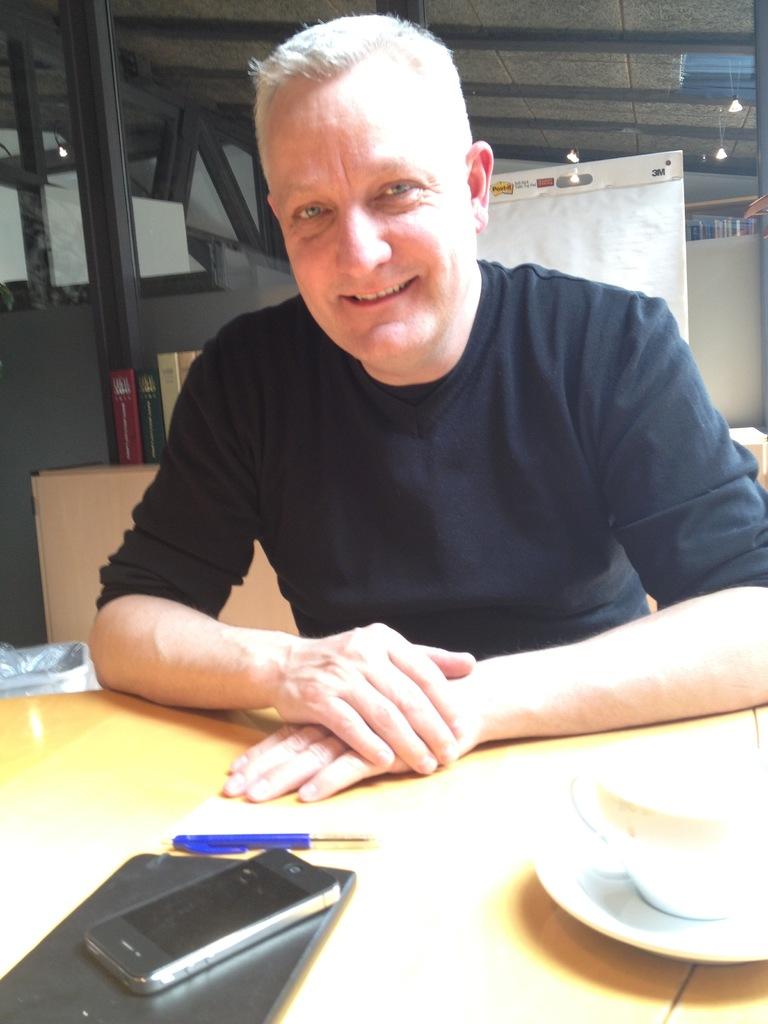Mobile-phone: (81, 842, 344, 995)
